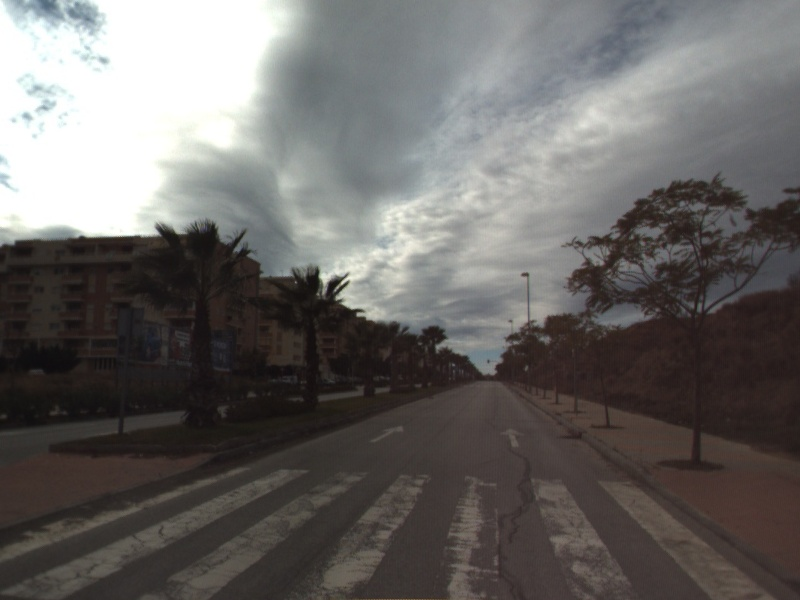STRAIGHT: (368, 423, 406, 444), (498, 426, 527, 450)
